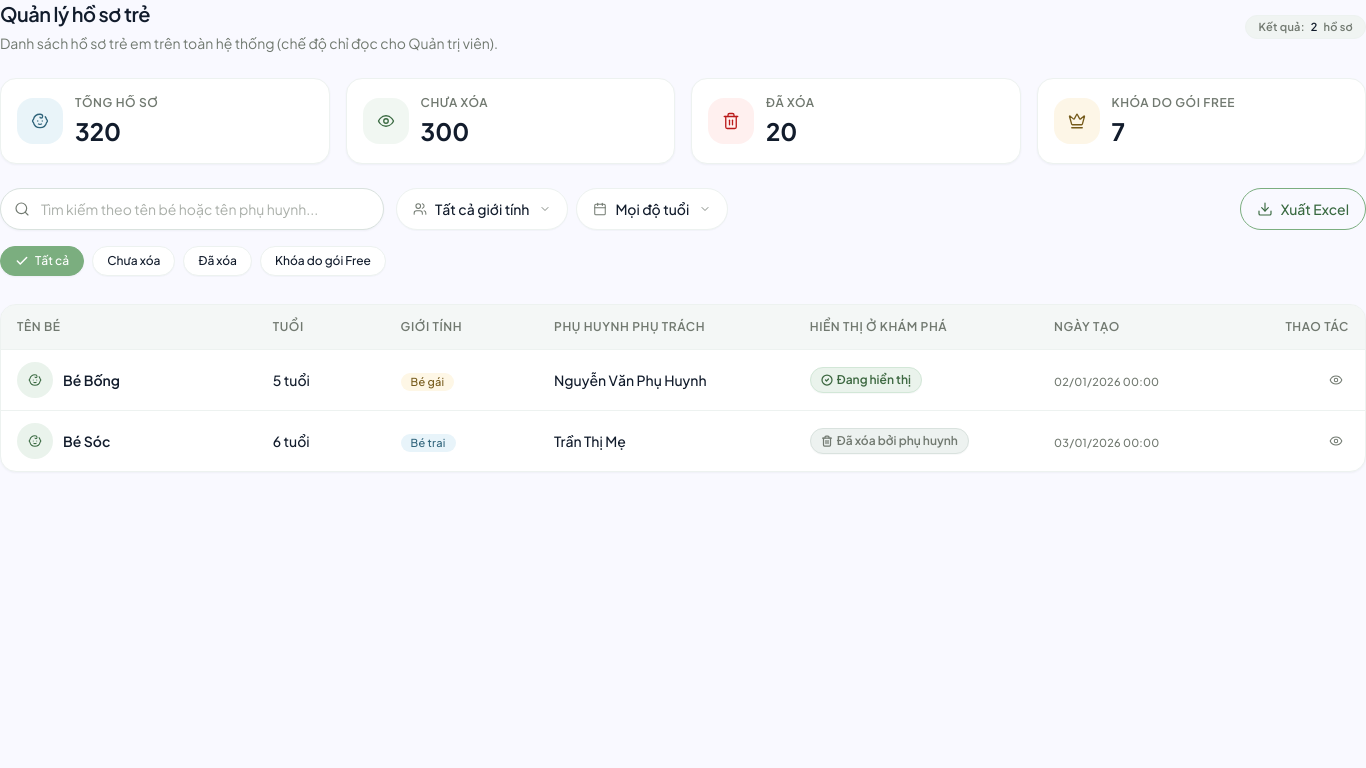
it: AdminChildManagementPage › opens child detail drawer (view-only) when child is clicked
Click the text "Bé Bống": (91, 380) 63,369 -> 120,391
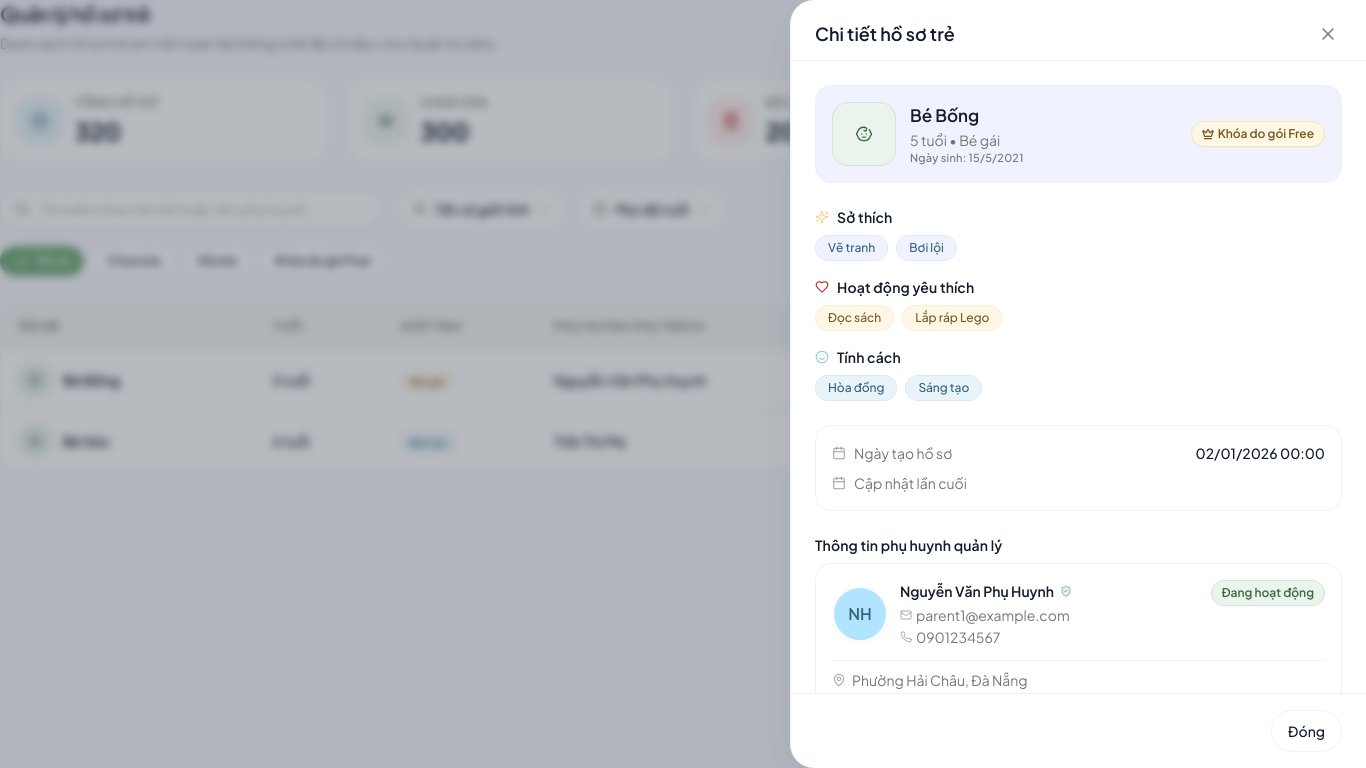
Result: the heading "Chi tiết hồ sơ trẻ" is shown at 815,20 -> 955,48
Result: the heading "Thông tin phụ huynh quản lý" is shown at 815,536 -> 1002,554
Result: the text "Vẽ tranh" is shown at 815,235 -> 888,261
